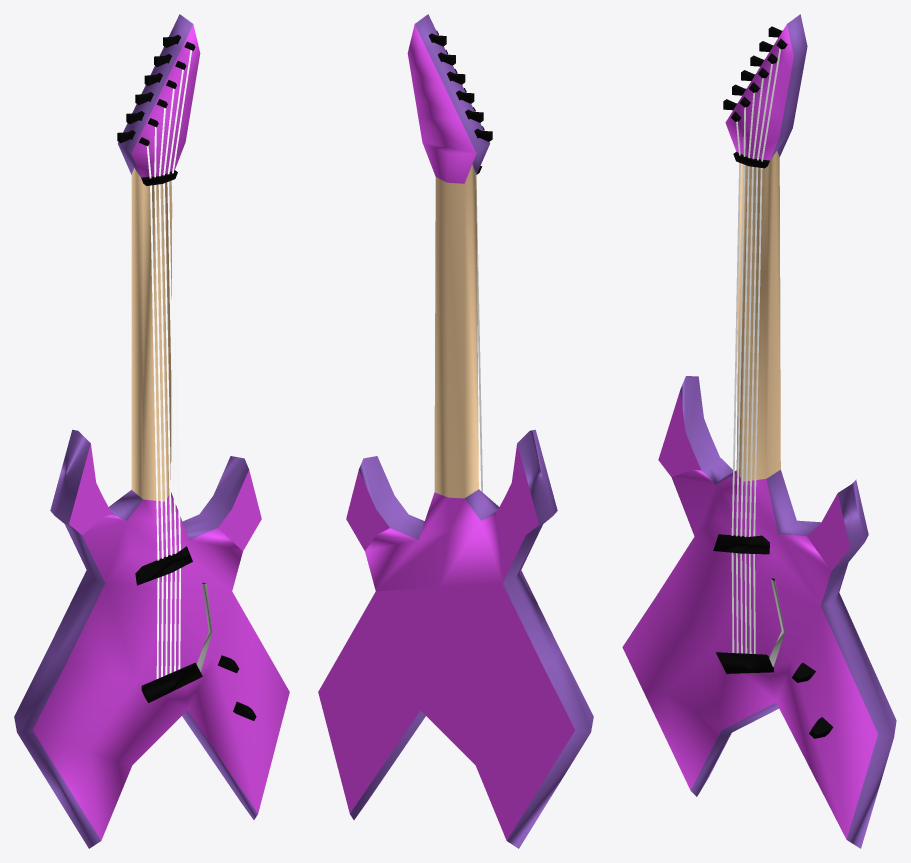
Rendered from GuitarMetalPurple.glb.
3 views of the same model, side by side, from view 1: azimuth 30°, elevation 25°; view 2: azimuth 150°, elevation 25°; view 3: azimuth 330°, elevation 25° (orthographic).
Parts seen in each view (by area): view 1: GuitarMetalPurple; view 2: GuitarMetalPurple; view 3: GuitarMetalPurple.
Boxes of the visible parts, x1,y1,x2,y2 form: GuitarMetalPurple: (14,14,289,848); GuitarMetalPurple: (318,14,593,848); GuitarMetalPurple: (622,14,896,848).
Size of the model in its own units: 0.4798 by 1.39 by 0.1006.
Materials: 1 (1 with a texture image).
